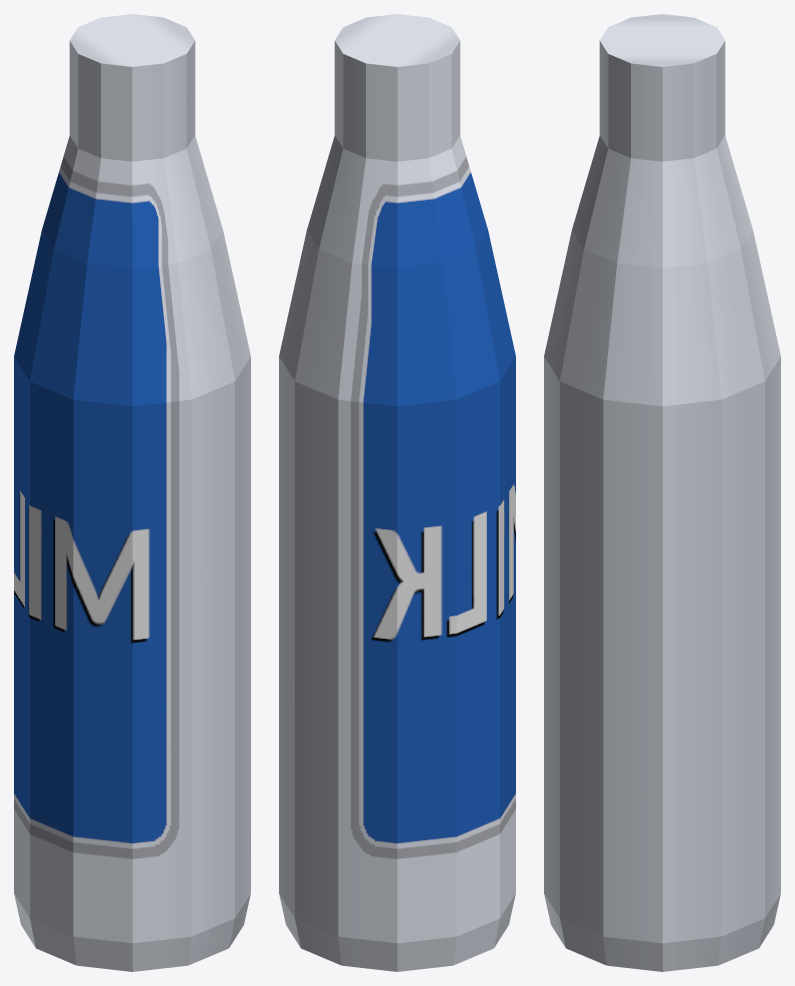
File: fridge_milk.obj
3 renders of one model, left to right at view 1: azimuth 30°, elevation 25°; view 2: azimuth 150°, elevation 25°; view 3: azimuth 270°, elevation 25°, orthographic.
Parts seen in each view (by area): view 1: fridge_milk; view 2: fridge_milk; view 3: fridge_milk.
Boxes of the visible parts, <box> form: fridge_milk: <box>14,14,250,971</box>; fridge_milk: <box>279,14,515,971</box>; fridge_milk: <box>544,14,780,971</box>.
Bounding box in the file's own units: 0.068 × 0.28 × 0.068.
Materials: 1 (1 with a texture image).
